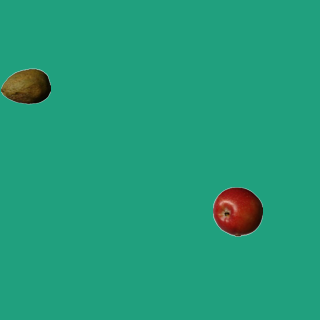Apple Braeburn: (212, 186, 262, 236)
Papaya: (0, 61, 50, 111)
